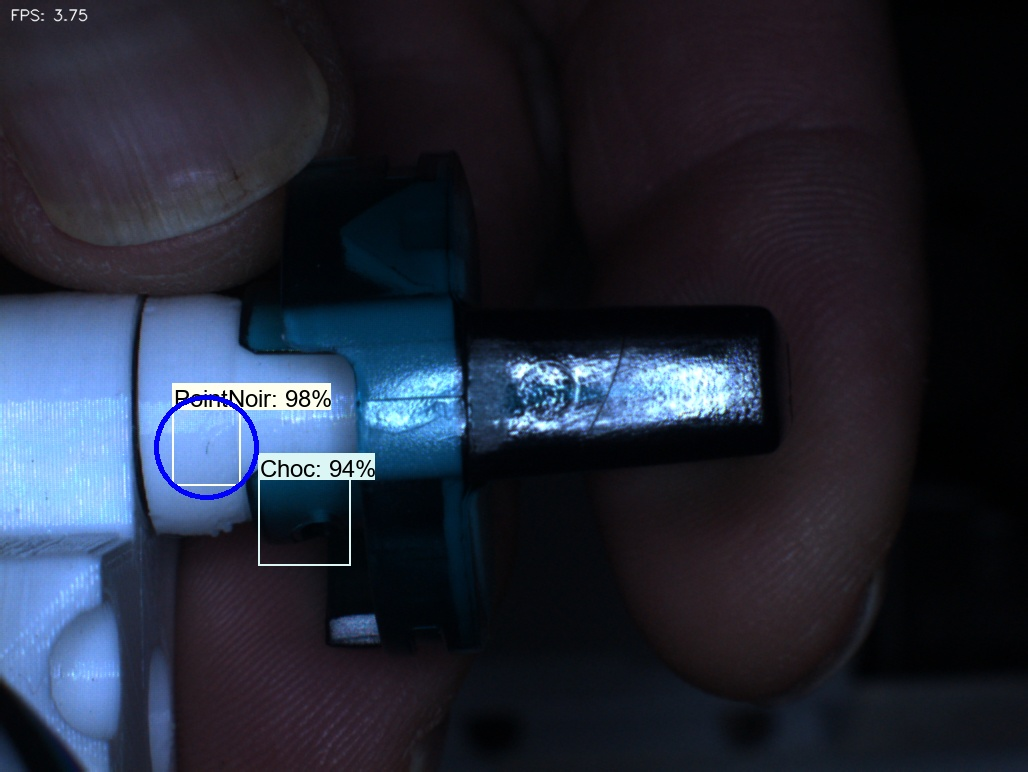DentOk: (308, 192, 384, 290)
